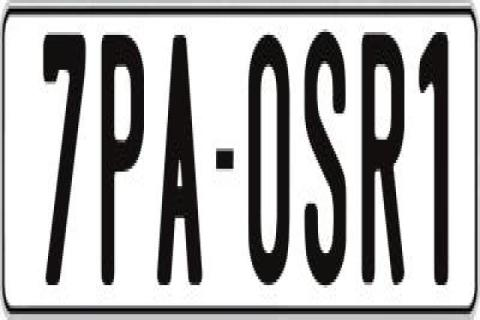0: (248, 29, 296, 279), (43, 27, 88, 286), (420, 23, 452, 285)
A: (158, 35, 206, 285)
P: (101, 35, 149, 285)
R: (363, 32, 407, 288)
S: (301, 26, 350, 294)
